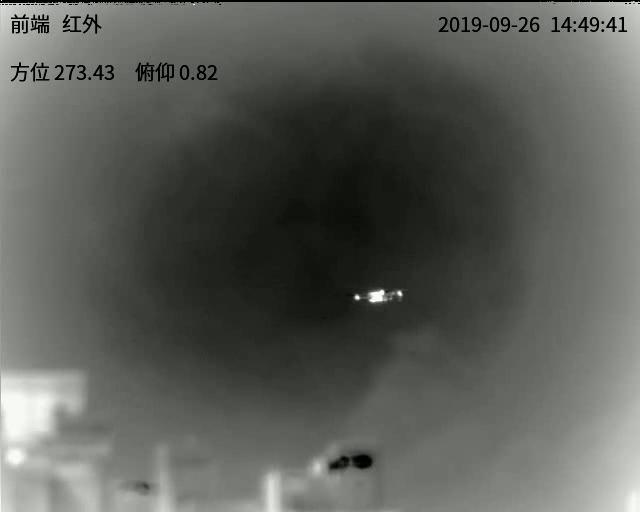DRONE: (351, 287, 405, 304)
